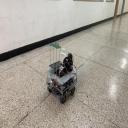cart: (45, 66, 77, 104)
